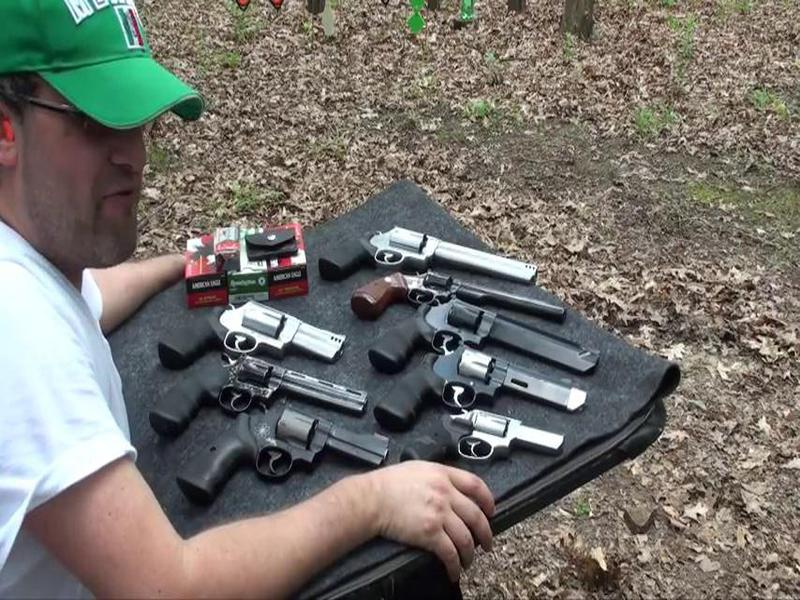Revolver: (167, 398, 416, 510)
